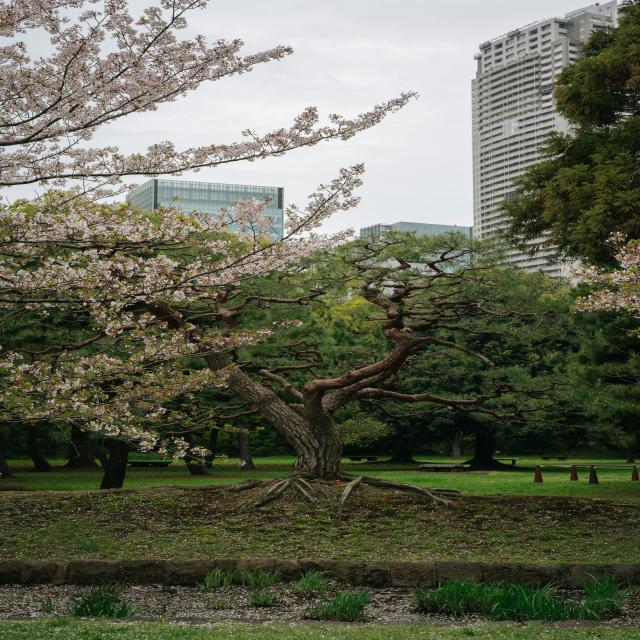trunk: (229, 469, 409, 495), (456, 460, 511, 479), (95, 484, 126, 496), (58, 463, 102, 471), (386, 458, 418, 468), (0, 475, 23, 482), (236, 467, 260, 473), (30, 469, 55, 474), (191, 472, 211, 478), (621, 460, 640, 464), (202, 466, 215, 470)
